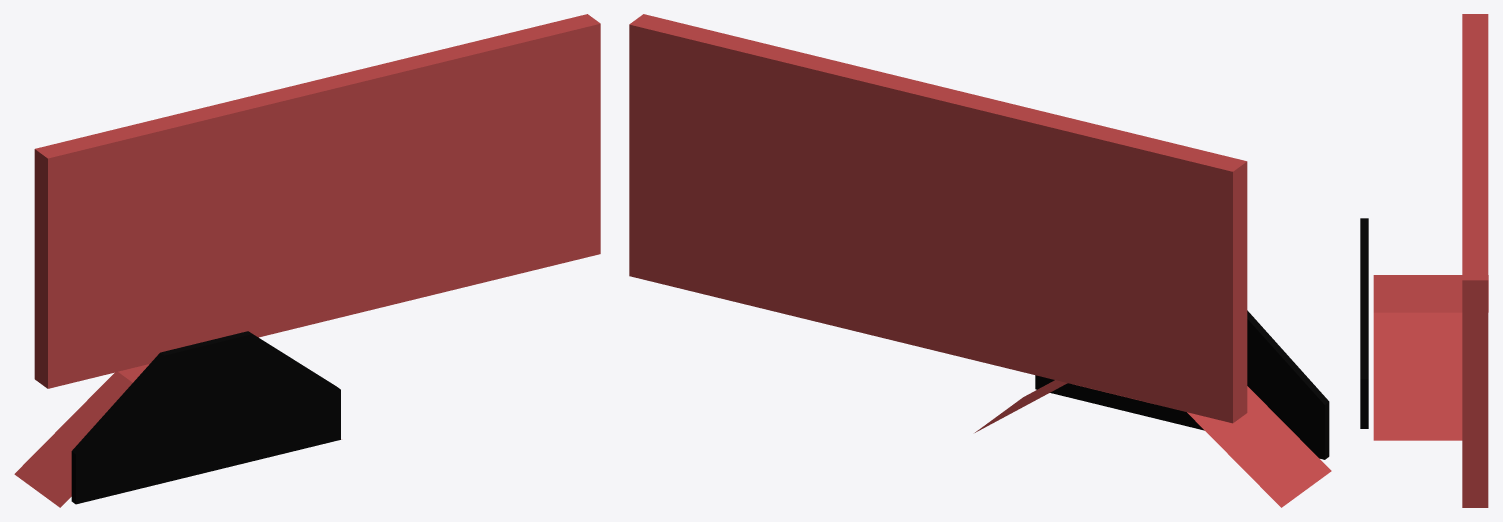
The model's file is wall2b.FBX.
3 views of the same model, side by side, from view 1: azimuth 30°, elevation 25°; view 2: azimuth 150°, elevation 25°; view 3: azimuth 270°, elevation 25° (orthographic). The views are drawn at different scales.
Visible parts, largest first — view 1: Object315; view 2: Object315; view 3: Object315.
Boxes of the visible parts, x1,y1,x2,y2 form: Object315: [14, 14, 600, 507]; Object315: [629, 14, 1331, 507]; Object315: [1360, 14, 1488, 507].
Size of the model in its own units: 10.64 by 5.38 by 2.04.
